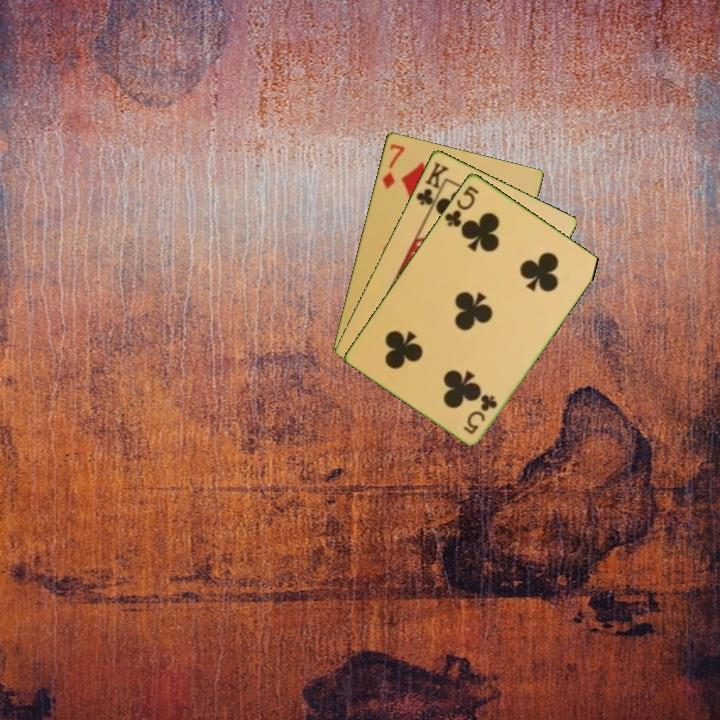5c: (441, 181, 481, 230), (459, 390, 500, 437)
7d: (378, 140, 407, 191)
Kc: (412, 158, 451, 214)
